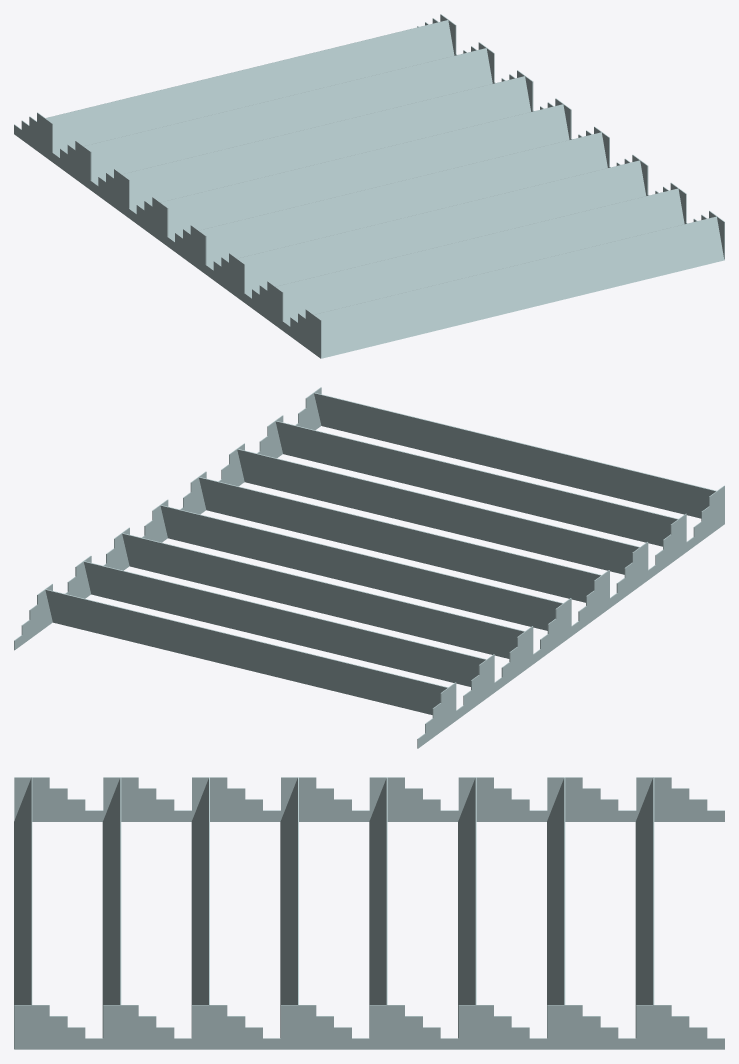
Rendered from SM_Glass_Helgasetr_Tak.fbx.
3 views of the same model, one above another, from view 1: azimuth 30°, elevation 25°; view 2: azimuth 150°, elevation 25°; view 3: azimuth 270°, elevation 25° (orthographic). The views are drawn at different scales.
Parts seen in each view (by area): view 1: SM_Glass_Helgasetr_Tak; view 2: SM_Glass_Helgasetr_Tak; view 3: SM_Glass_Helgasetr_Tak.
Boxes of the visible parts, bbox=[...] form: SM_Glass_Helgasetr_Tak: bbox=[14, 14, 724, 358]; SM_Glass_Helgasetr_Tak: bbox=[14, 387, 724, 748]; SM_Glass_Helgasetr_Tak: bbox=[14, 777, 724, 1049].
Size of the model in its own units: 40.63 by 30.86 by 2.82.
